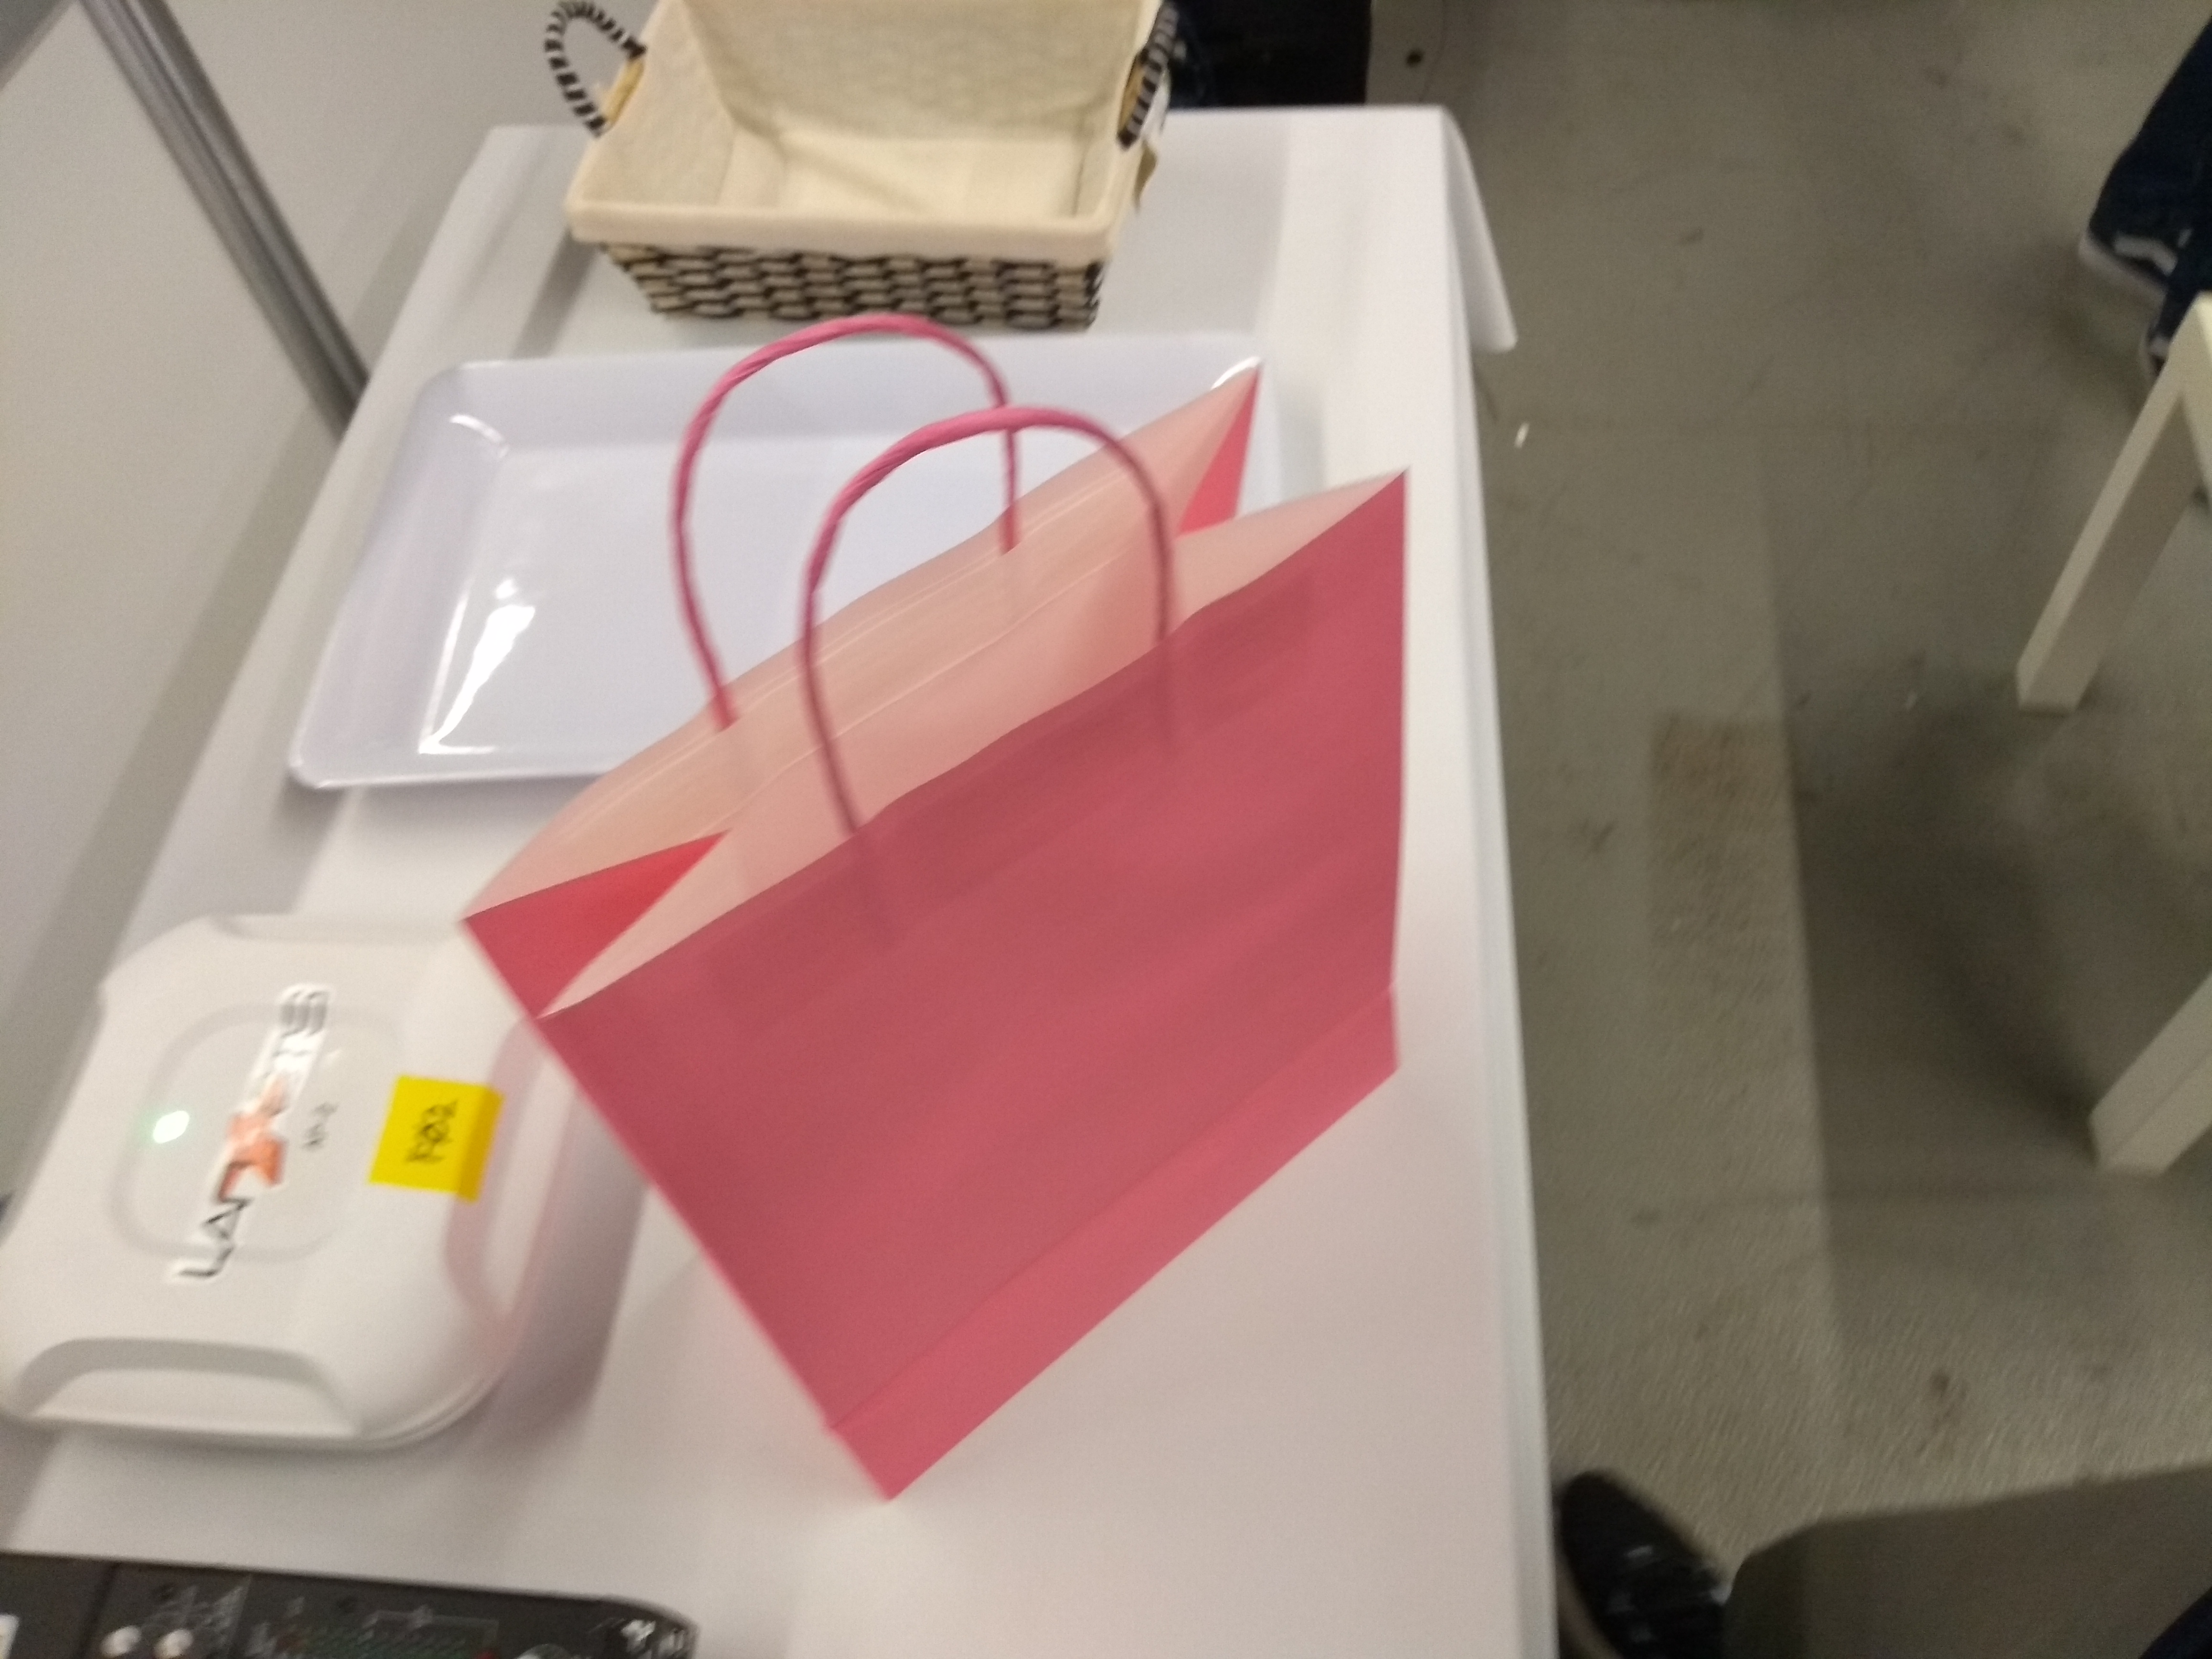basket: (536, 0, 1190, 338)
help_me_carry_opl: (488, 390, 1430, 1539)
tray: (303, 324, 1305, 809)
